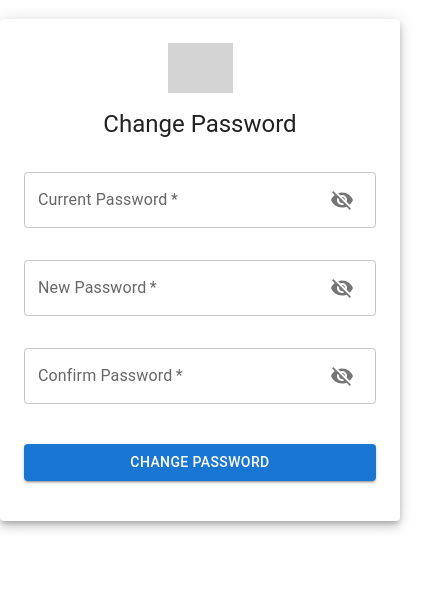
ChangePasswordPage › shows error if fields are empty on submit
Click the button "Change Password". click: (200, 462)
box: 24,444 -> 376,480
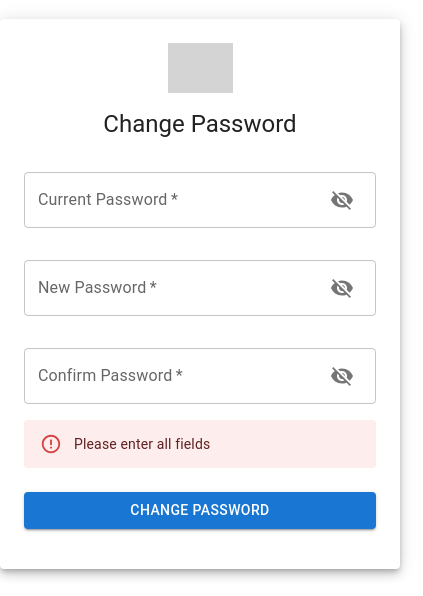
Result: the text "Please enter all fields" is shown at 74,436 -> 210,452
